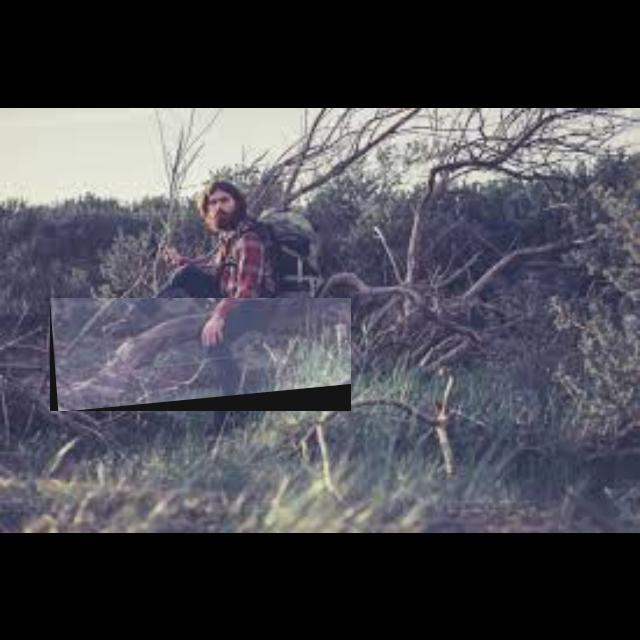fallen_tree: (50, 298, 352, 412)
